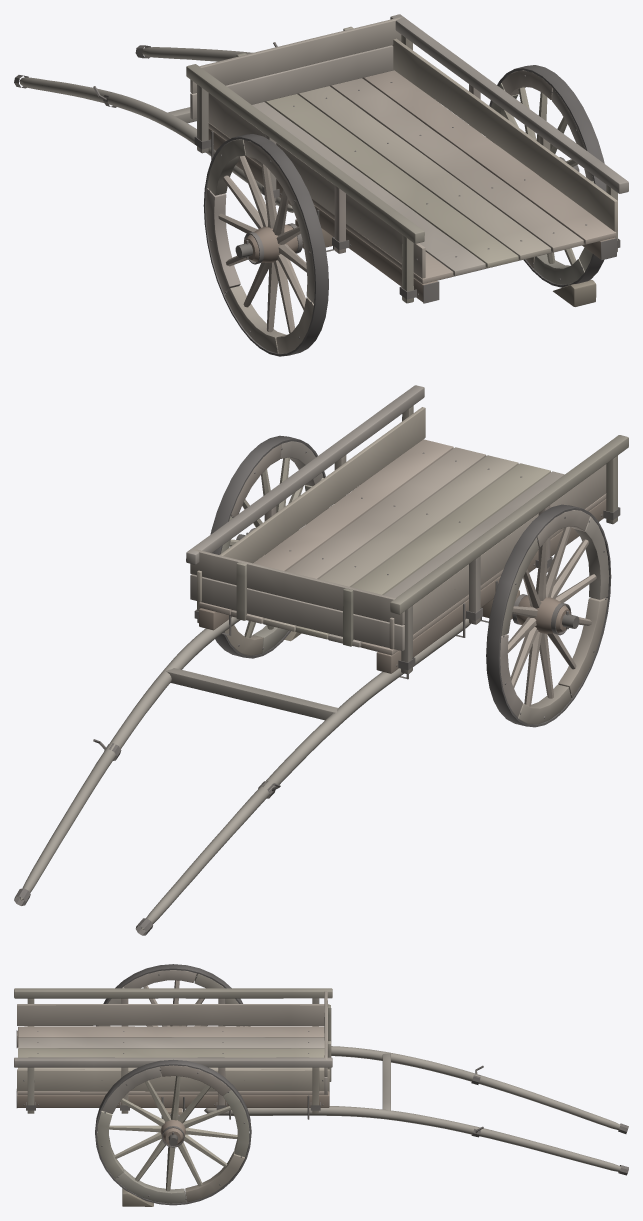
The model's file is cart.glb.
The picture shows the model from 3 angles, top to bottom: view 1: azimuth 30°, elevation 25°; view 2: azimuth 150°, elevation 25°; view 3: azimuth 270°, elevation 25°; orthographic projection. The views are drawn at different scales.
Parts seen in each view (by area): view 1: Cart / tav_board, Cart / tav_oak, Cart / tav_iron; view 2: Cart / tav_board, Cart / tav_oak, Cart / tav_iron; view 3: Cart / tav_oak, Cart / tav_board, Cart / tav_iron.
Boxes of the visible parts, box(x1,y1,x2,y2) form: Cart / tav_board: box(190, 16, 617, 283); Cart / tav_oak: box(19, 14, 628, 353); Cart / tav_iron: box(14, 42, 620, 356); Cart / tav_board: box(190, 407, 606, 655); Cart / tav_oak: box(20, 385, 628, 929); Cart / tav_iron: box(14, 435, 620, 935); Cart / tav_oak: box(14, 970, 620, 1206); Cart / tav_board: box(16, 991, 329, 1095); Cart / tav_iron: box(16, 964, 628, 1205).
Size of the model in its own units: 1.9 by 1.1 by 4.32.
